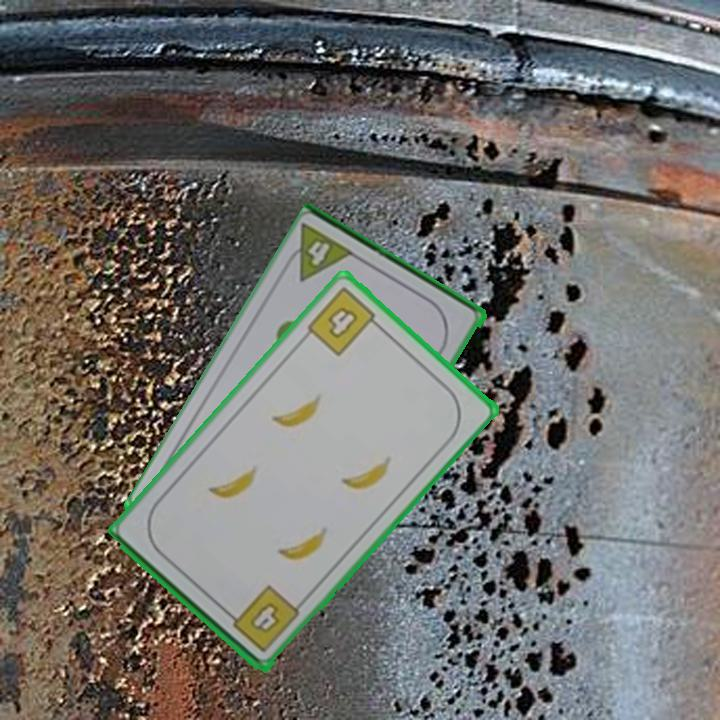4b: (303, 283, 385, 359), (222, 581, 303, 656)
4p: (278, 220, 359, 286)
